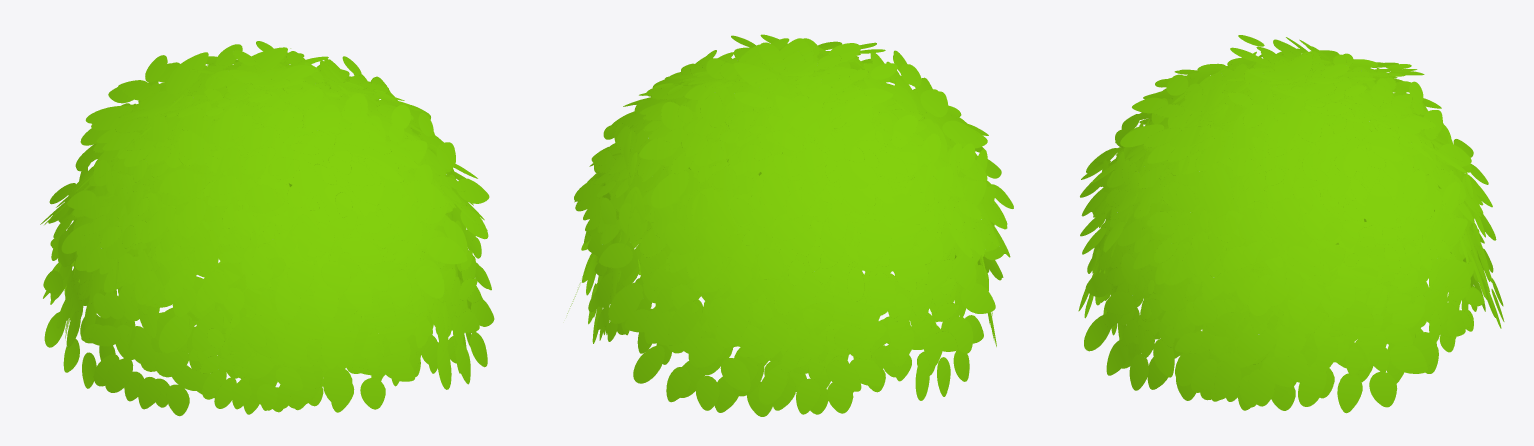
The model's file is Bush.glb.
3 views of the same model, side by side, from view 1: azimuth 30°, elevation 25°; view 2: azimuth 150°, elevation 25°; view 3: azimuth 270°, elevation 25° (orthographic). The views are drawn at different scales.
Visible parts, largest first — view 1: Bush; view 2: Bush; view 3: Bush.
Boxes of the visible parts, x1,y1,x2,y2 form: Bush: (40, 41, 494, 416); Bush: (567, 34, 1013, 416); Bush: (1078, 35, 1504, 413).
Bounding box in the file's own units: 1.09 × 0.6916 × 1.05.
Materials: 1 (1 with a texture image).
